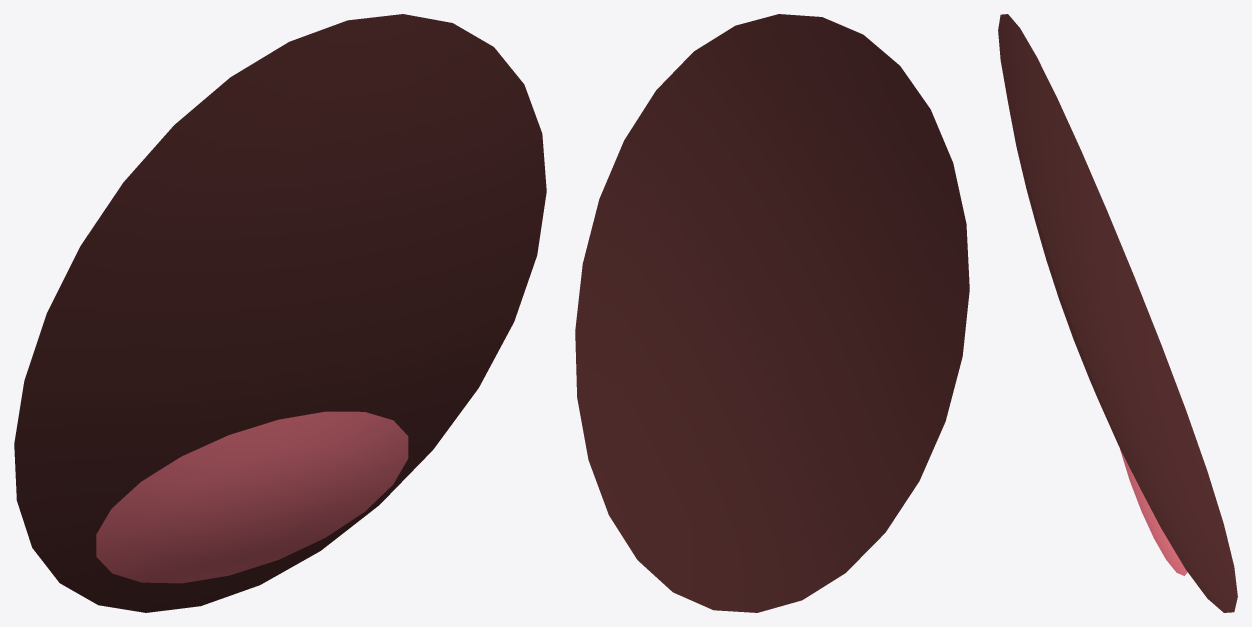
The model's file is char_mouth_o.glb.
3 renders of one model, left to right at view 1: azimuth 30°, elevation 25°; view 2: azimuth 150°, elevation 25°; view 3: azimuth 270°, elevation 25°, orthographic. The views are drawn at different scales.
Parts seen in each view (by area): view 1: char_mouth_o; view 2: char_mouth_o; view 3: char_mouth_o.
Boxes of the visible parts, x1=… form: char_mouth_o: x1=14, y1=14, x2=546, y2=612; char_mouth_o: x1=575, y1=14, x2=969, y2=612; char_mouth_o: x1=998, y1=14, x2=1237, y2=612.
Bounding box in the file's own units: 0.0483 × 0.0624 × 0.0239.
